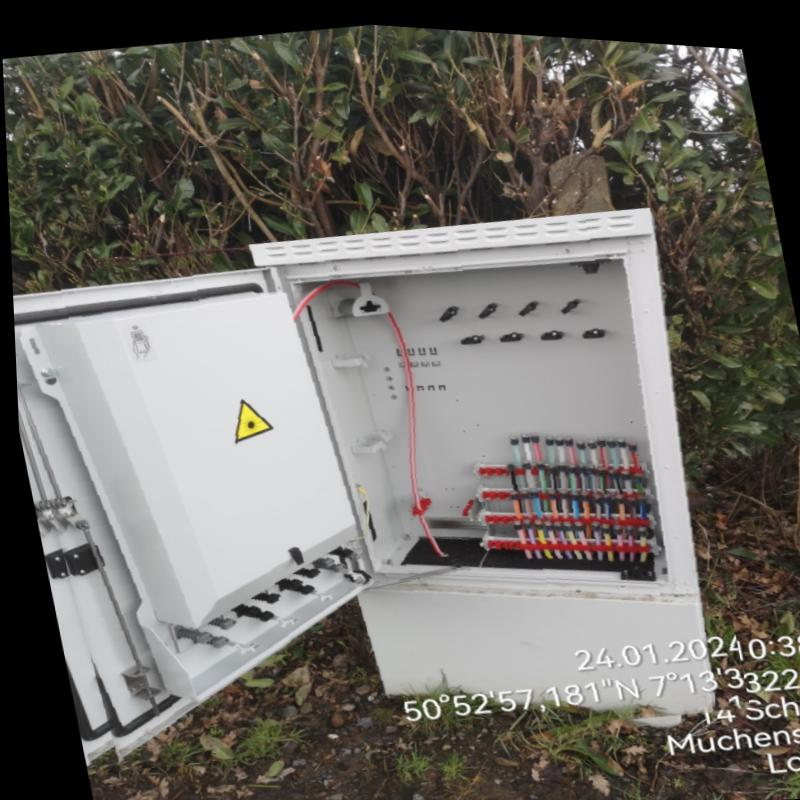NT-Gehause: (10, 200, 699, 761)
